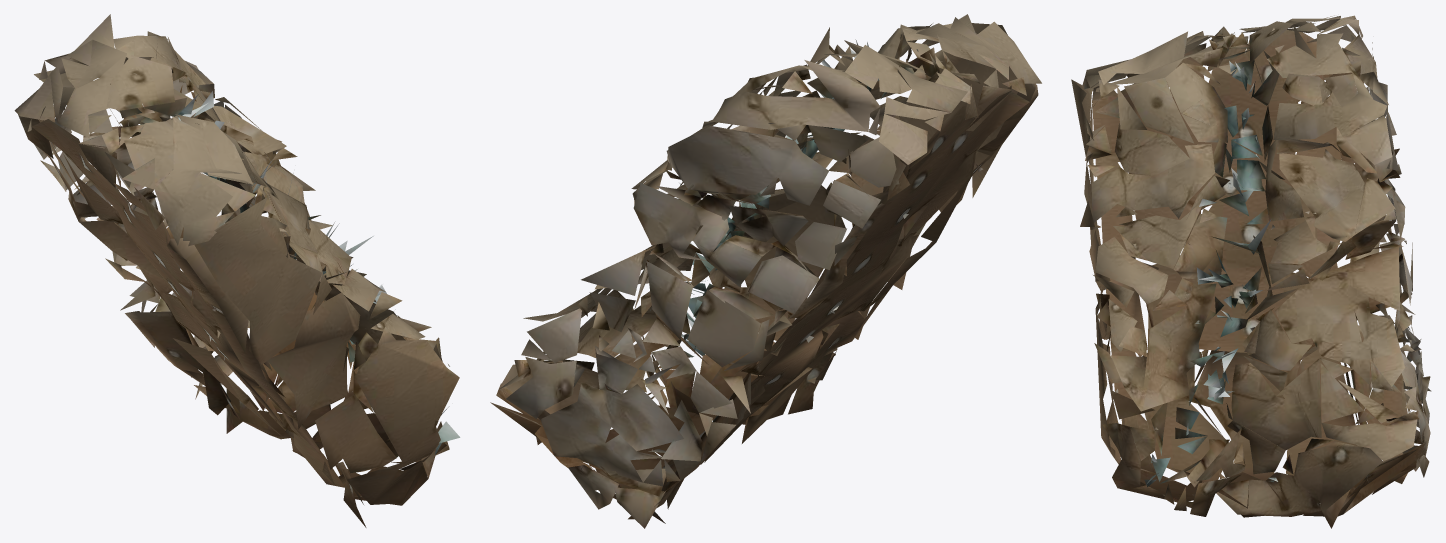
File: cav_resonant_crystal_vein_b_LOD3.glb
3 renders of one model, left to right at view 1: azimuth 30°, elevation 25°; view 2: azimuth 150°, elevation 25°; view 3: azimuth 270°, elevation 25°, orthographic. The views are drawn at different scales.
Visible parts, largest first — view 1: tripo_node_27db1e25-f410-47bb-be75-9db522baf686; view 2: tripo_node_27db1e25-f410-47bb-be75-9db522baf686; view 3: tripo_node_27db1e25-f410-47bb-be75-9db522baf686.
Part boxes in pixels (left/top/right/bottom): tripo_node_27db1e25-f410-47bb-be75-9db522baf686: left=14, top=14, right=460, bottom=527; tripo_node_27db1e25-f410-47bb-be75-9db522baf686: left=490, top=14, right=1041, bottom=528; tripo_node_27db1e25-f410-47bb-be75-9db522baf686: left=1071, top=15, right=1431, bottom=528.
Size of the model in its own units: 0.8816 by 1.04 by 0.8201.
Materials: 1 (1 with a texture image).
